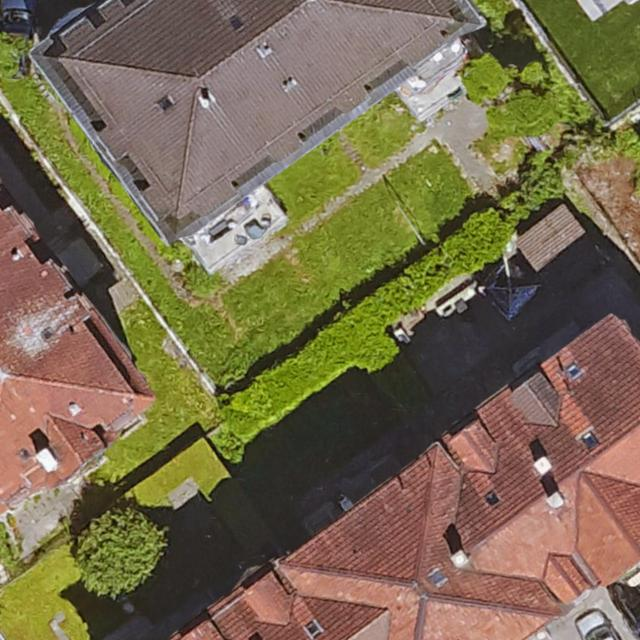tree: (74, 507, 166, 598), (493, 88, 561, 137), (461, 57, 512, 101), (524, 59, 549, 85)
